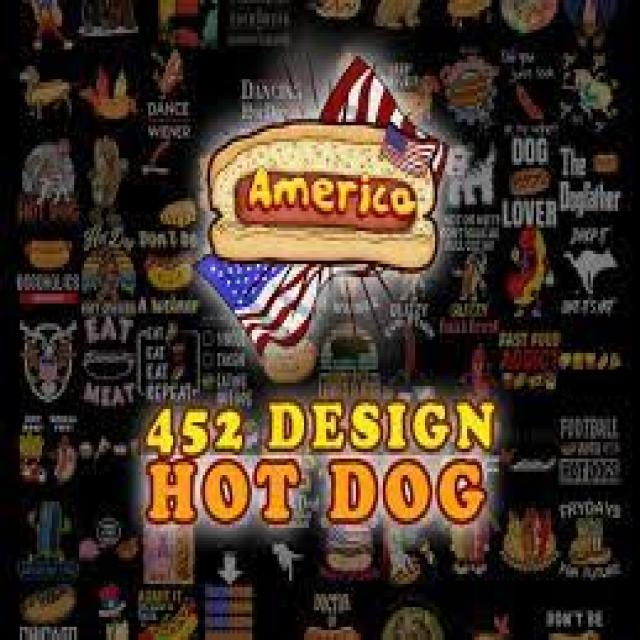Hot Dog: (200, 140, 472, 306)
